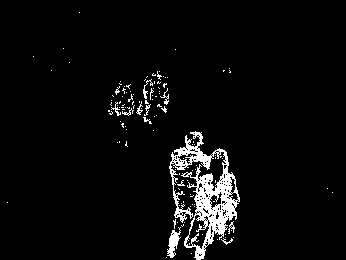person: (164, 129, 205, 260), (194, 146, 241, 260), (108, 78, 137, 149), (140, 68, 172, 127)
